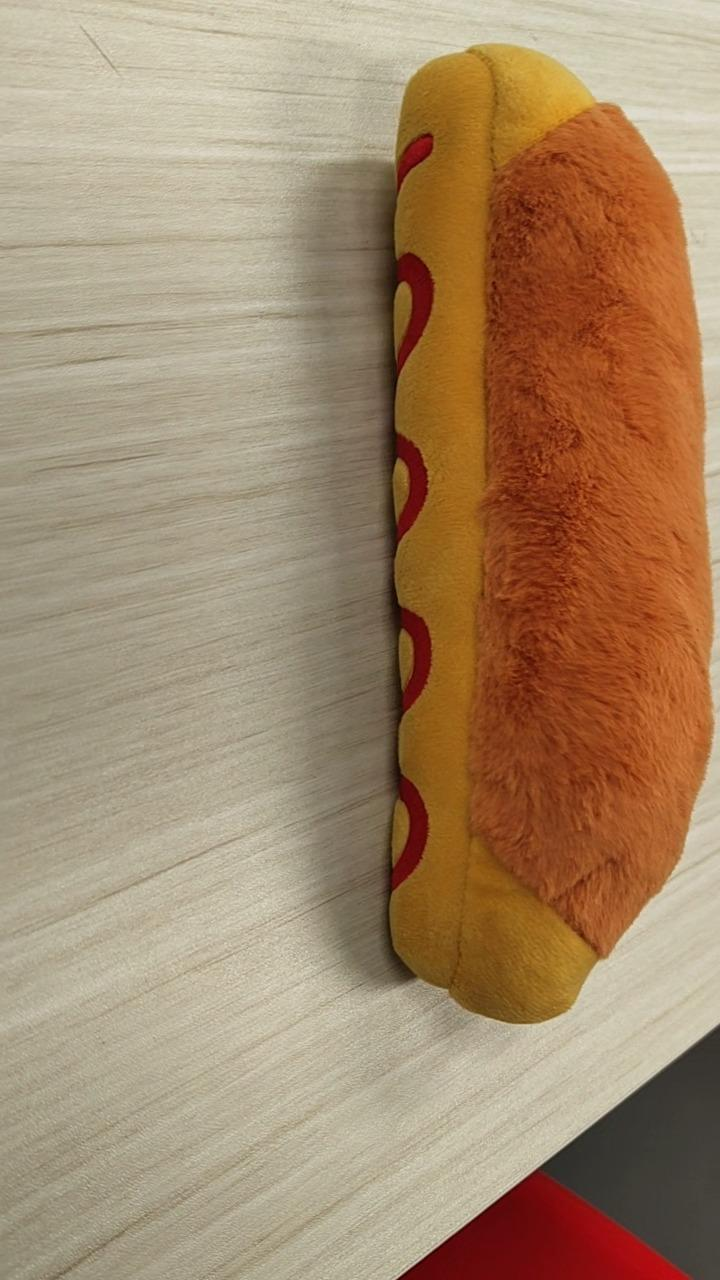hotdog: (385, 41, 714, 1024)
